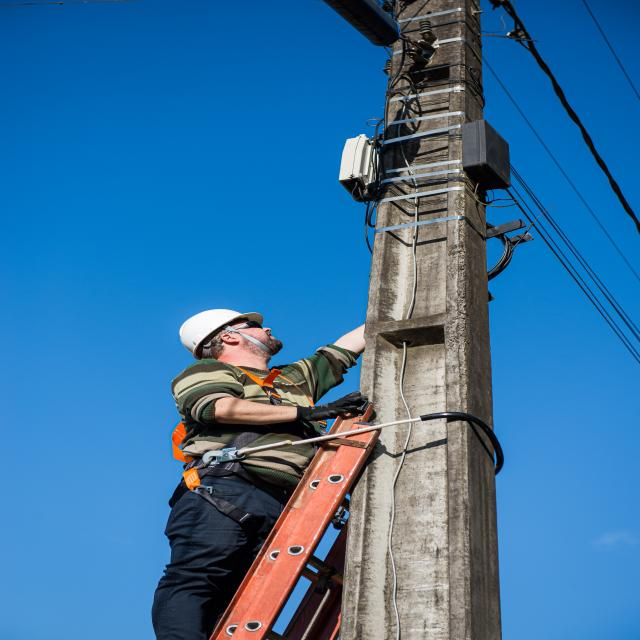capacete: (174, 307, 265, 359)
corda de vida: (166, 361, 343, 555)
luva: (293, 390, 369, 425)
